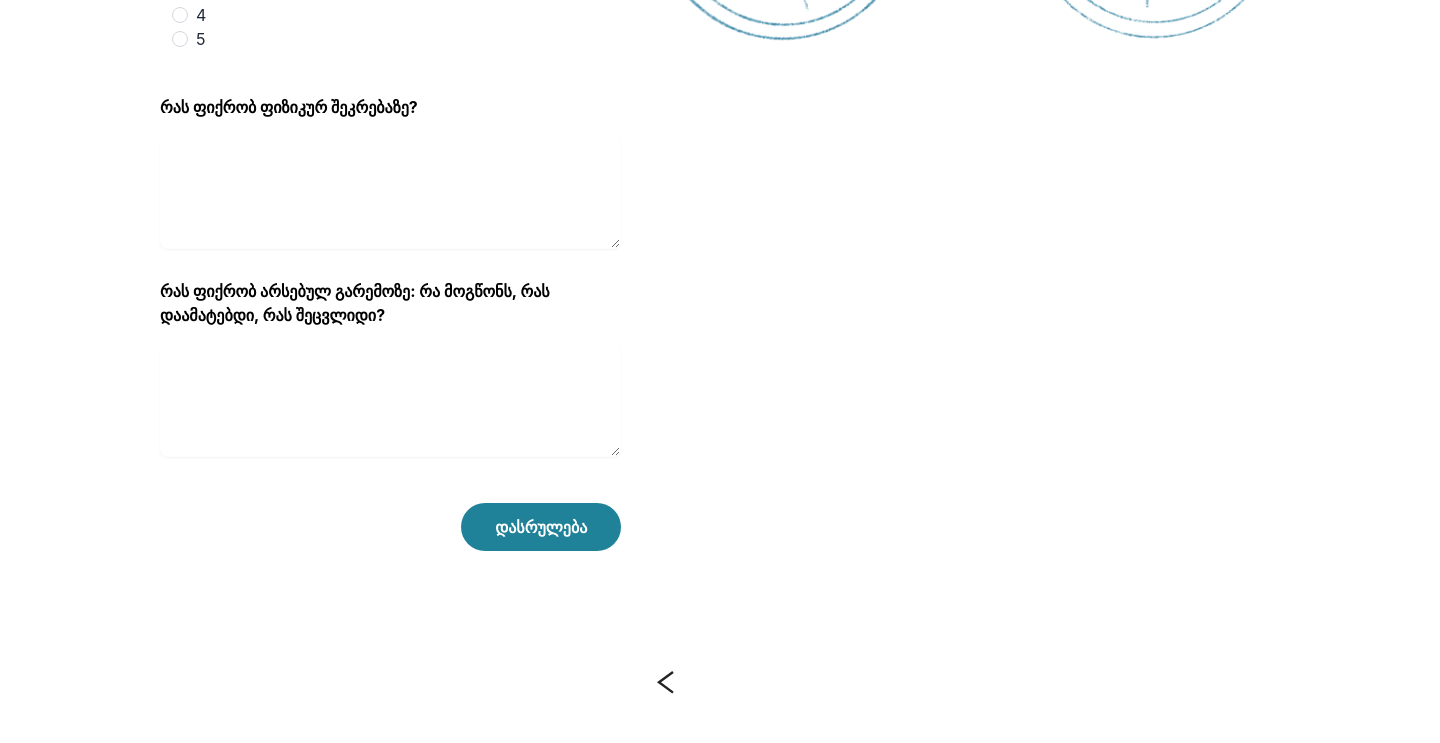
Test: advice › user can't go to the next page if inputs are empty
(page scrolled)
Click the button with id "submit". click: (541,527)
box: x1=461 y1=503 x2=621 y2=551
(page scrolled)
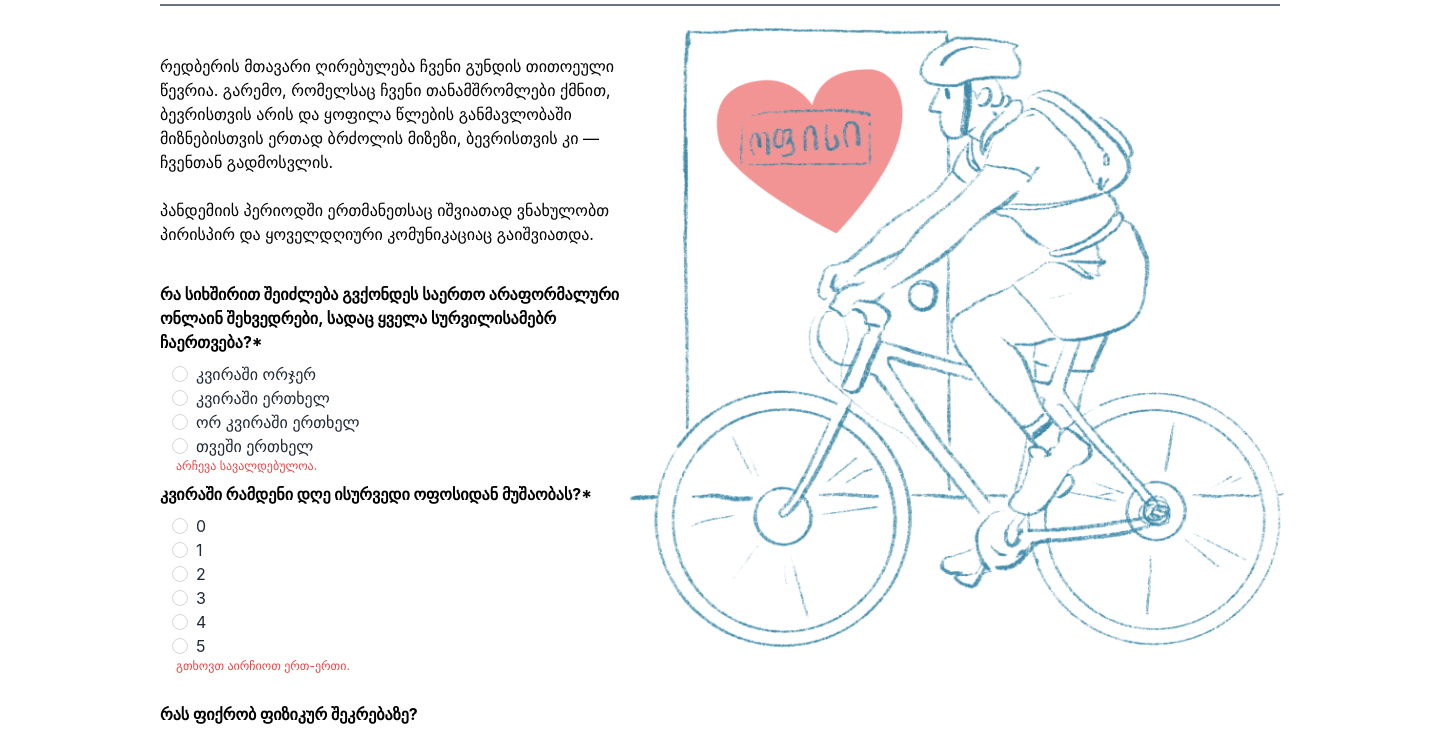
Expected: the text "არჩევა სავალდებულოა." is shown, x1=176 y1=458 x2=317 y2=473
Expected: the text "გთხოვთ აირჩიოთ ერთ-ერთი." is shown, x1=176 y1=658 x2=350 y2=673
